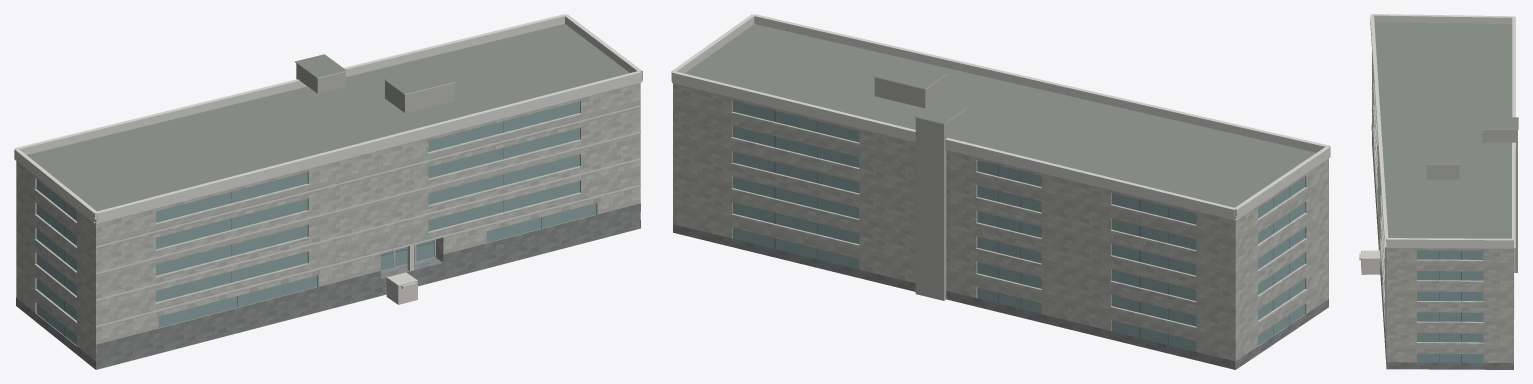
The picture shows the model from 3 angles, left to right: view 1: azimuth 30°, elevation 25°; view 2: azimuth 150°, elevation 25°; view 3: azimuth 270°, elevation 25°; orthographic projection. The views are drawn at different scales.
Visible parts, largest first — view 1: b27__wall, b27__roof, b27__glass, b27__trim, b27__base, b27__wall2, b27__entranceStair; view 2: b27__wall, b27__roof, b27__glass, b27__trim, b27__wall2, b27__base, b27__frame; view 3: b27__roof, b27__wall, b27__trim, b27__glass, b27__wall2, b27__base, b27__entranceStair.
Boxes of the visible parts, box(x1,y1,x2,y2) form: b27__wall: box(16, 82, 640, 361); b27__roof: box(27, 24, 639, 368); b27__glass: box(36, 101, 596, 345); b27__trim: box(14, 14, 642, 327); b27__base: box(16, 203, 640, 369); b27__wall2: box(296, 63, 454, 112); b27__entranceStair: box(386, 272, 417, 304); b27__wall: box(673, 83, 1328, 369); b27__roof: box(685, 24, 1316, 216); b27__glass: box(732, 100, 1304, 351); b27__trim: box(671, 14, 1330, 327); b27__wall2: box(874, 75, 965, 300); b27__base: box(673, 224, 1328, 369); b27__frame: box(774, 111, 1289, 344); b27__roof: box(1374, 22, 1518, 239); b27__wall: box(1372, 52, 1513, 362); b27__trim: box(1370, 14, 1518, 343); b27__glass: box(1417, 250, 1483, 362); b27__wall2: box(1426, 130, 1517, 272); b27__base: box(1371, 124, 1513, 369); b27__entranceStair: box(1359, 250, 1380, 274).
Size of the model in its own units: 84.61 by 25.47 by 25.22.
Materials: 10 (2 with a texture image).
